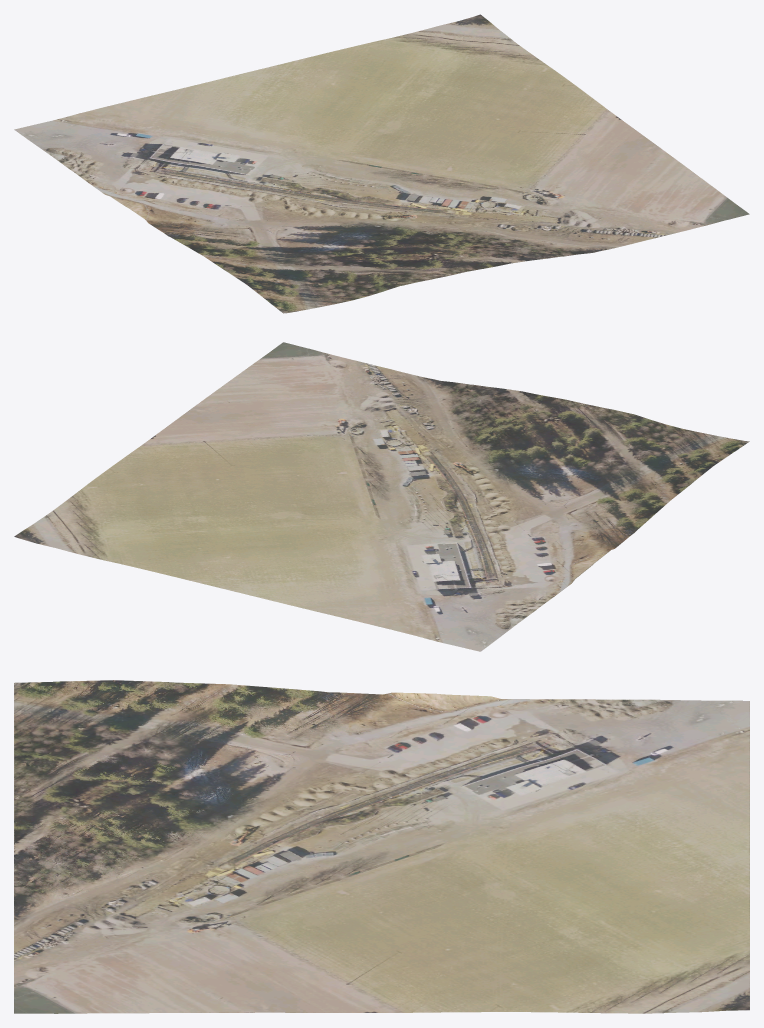
The model's file is CM_Terrain_24489639_6822251.fbx.
3 views of the same model, one above another, from view 1: azimuth 30°, elevation 25°; view 2: azimuth 150°, elevation 25°; view 3: azimuth 270°, elevation 25° (orthographic). The views are drawn at different scales.
Visible parts, largest first — view 1: CM_Terrain_24489639_6822251_LOD0; view 2: CM_Terrain_24489639_6822251_LOD0; view 3: CM_Terrain_24489639_6822251_LOD0.
Part boxes in pixels (box(x1,y1,x2,y2)): CM_Terrain_24489639_6822251_LOD0: box(14, 14, 749, 313); CM_Terrain_24489639_6822251_LOD0: box(14, 342, 749, 651); CM_Terrain_24489639_6822251_LOD0: box(14, 680, 749, 1013).
Size of what is drawn, in the model's own units: 205 by 7.35 by 205.
